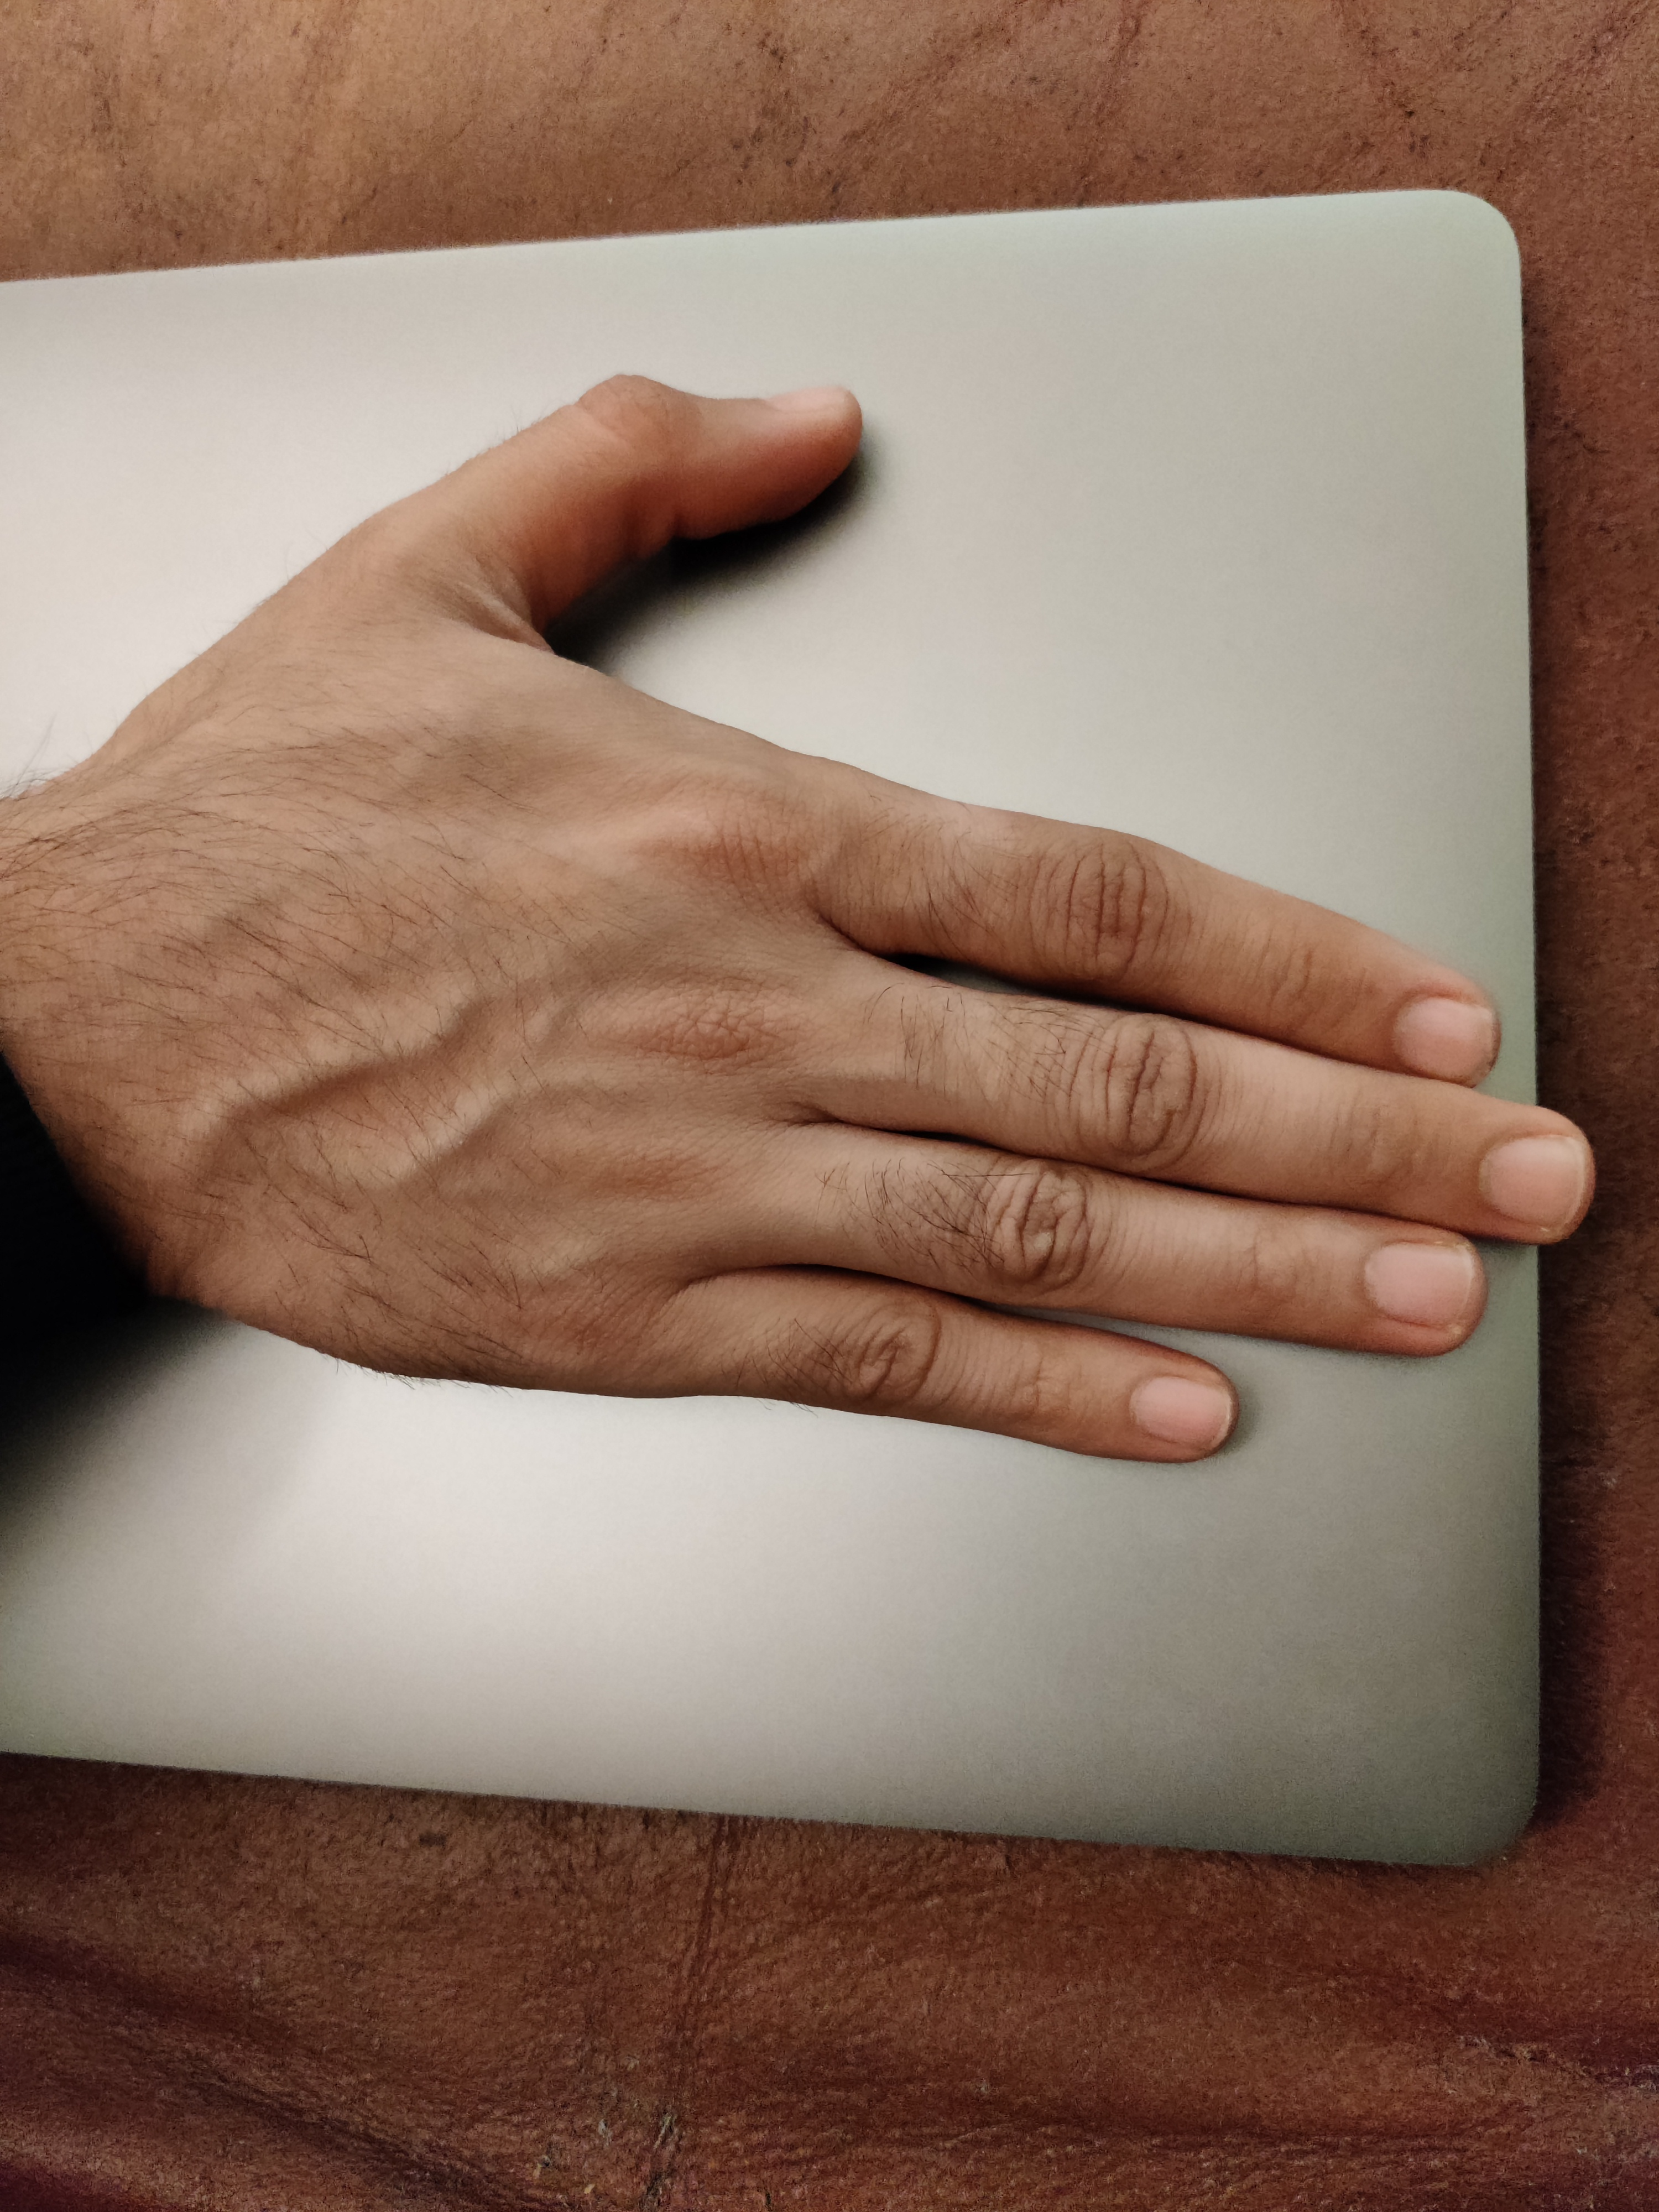left: (117, 359, 1636, 1726)
